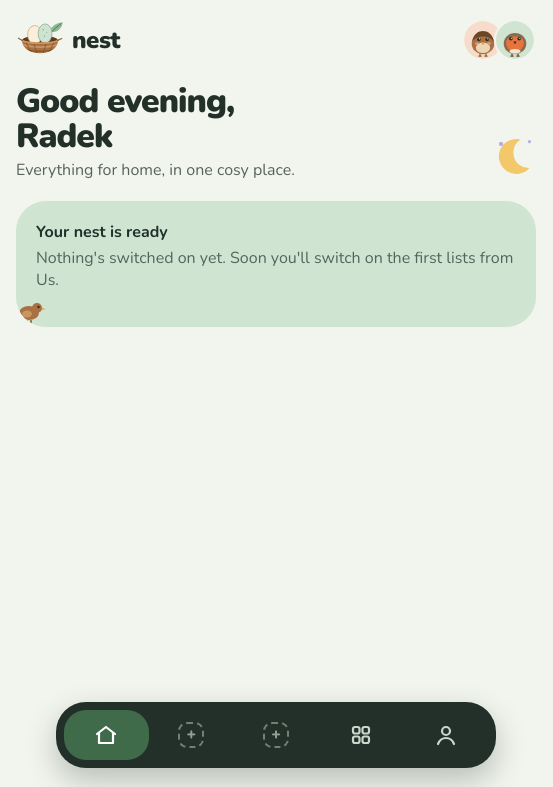
Scenario: us › rename yourself
The image size is (553, 787).
Click the button named "Us".
click(446, 735)  # box [403, 710, 488, 760]
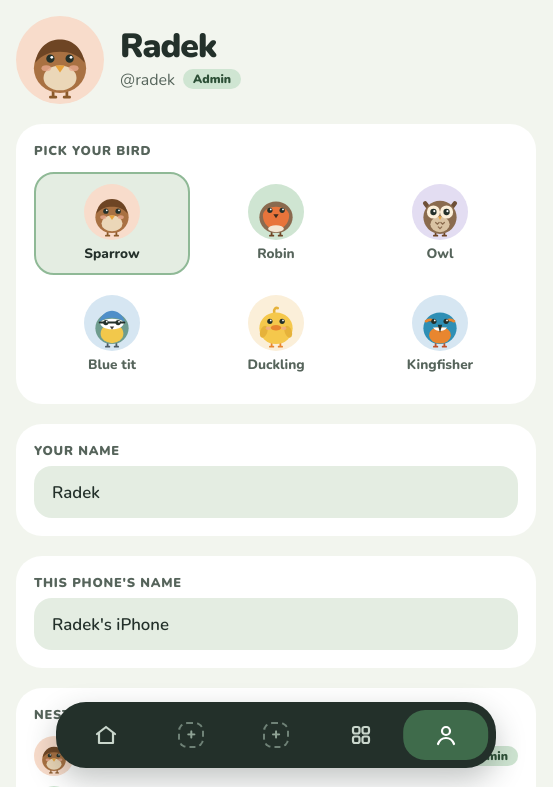
Result: the element named "Your bird" is shown at [34, 172, 518, 386]
Replace the text in the field labelled "Your name" with "Radek H" at (276, 492), box [34, 466, 518, 518]
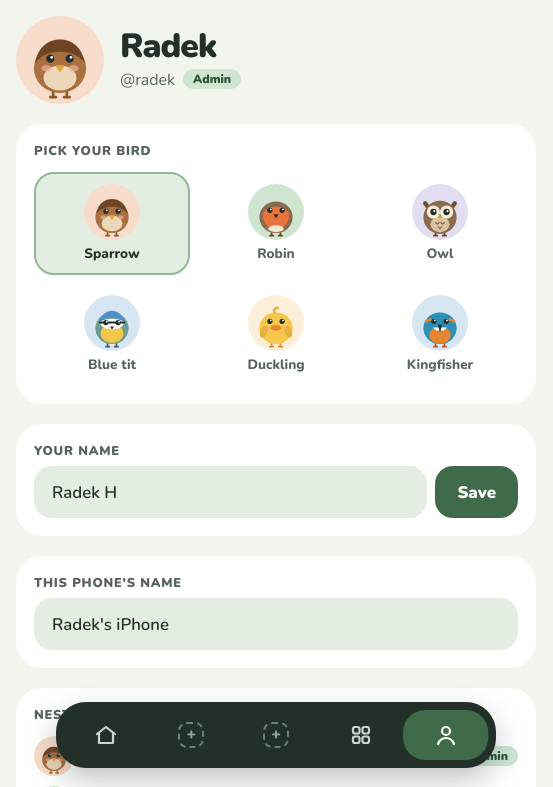
Click the button "Save".
click(477, 492)  # box [435, 466, 518, 518]
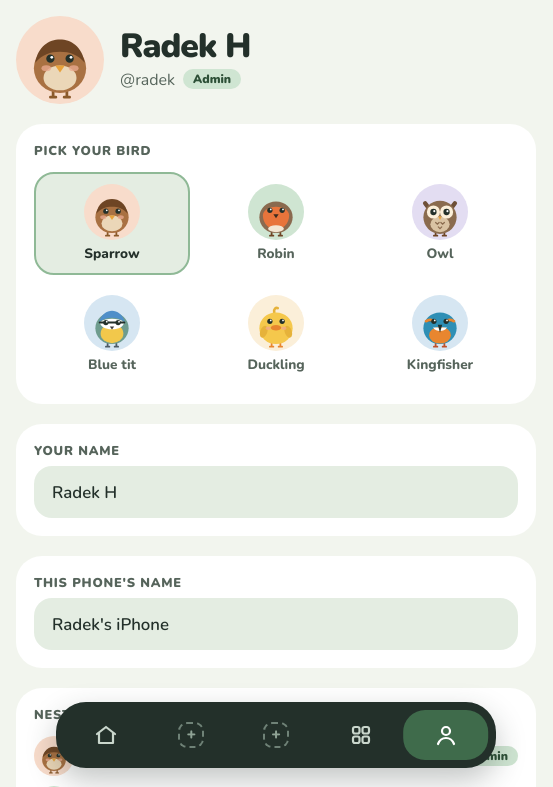
Result: the heading "Radek H" is shown at [120, 29, 250, 65]
